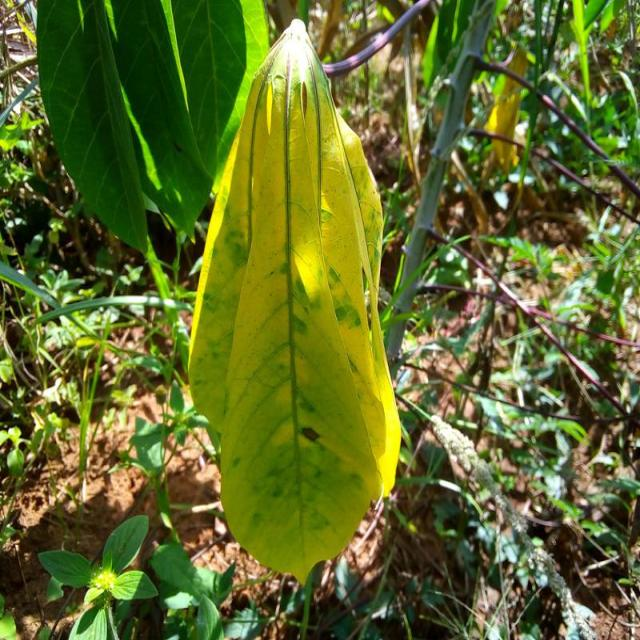cassava leaf: (187, 16, 403, 586)
